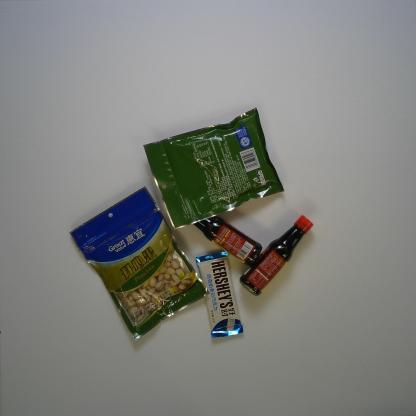Chocolate: (195, 250, 244, 339)
Dried Fruit: (68, 186, 211, 342), (142, 105, 286, 232)
Seasoner: (237, 214, 317, 298), (192, 215, 262, 267)
